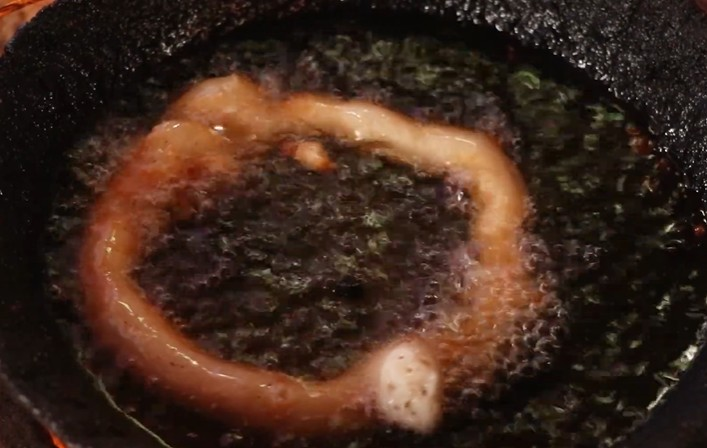sel_roti: (81, 80, 529, 422)
